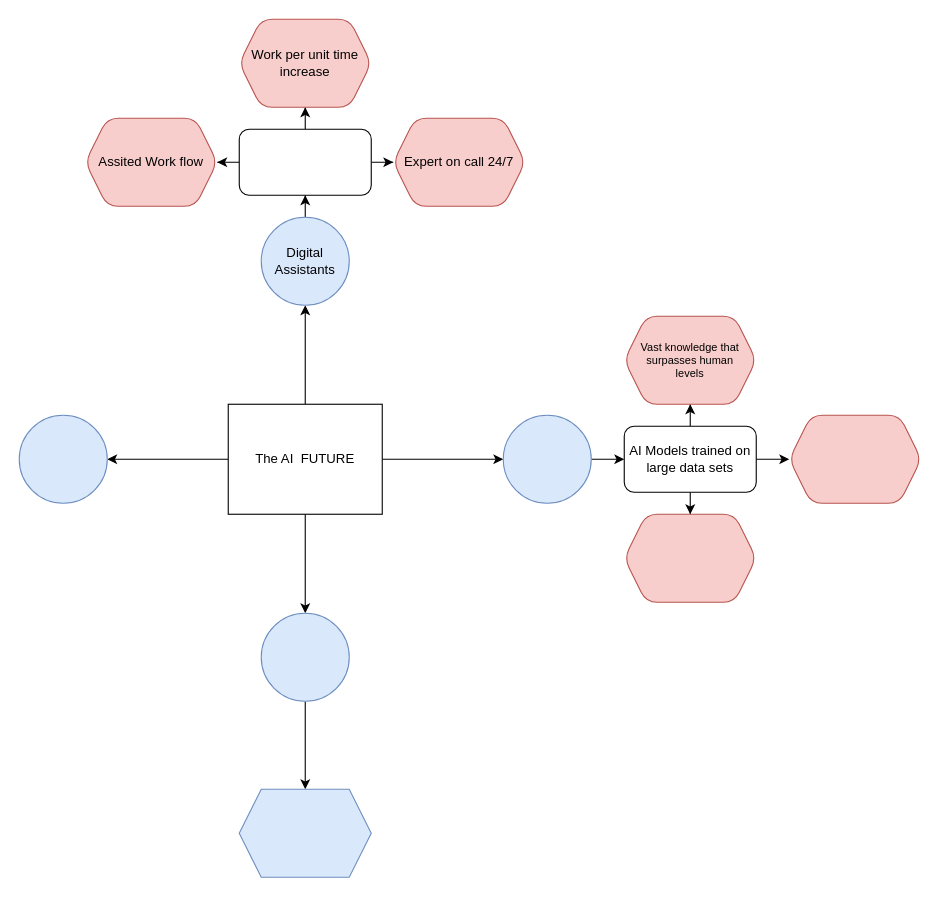
This 941x897 diagram has some shape labels left out. The shapes that lost their labels are listed below. From the top down, each one's box as (x1, y1, x2, y2) in pixels, then its label:
(238, 128, 371, 195): AI Models that can assist all jobs.
(18, 414, 107, 503): Machine Learning
(502, 414, 591, 503): MLM (Major language models)
(260, 612, 349, 701): Mass Automation
